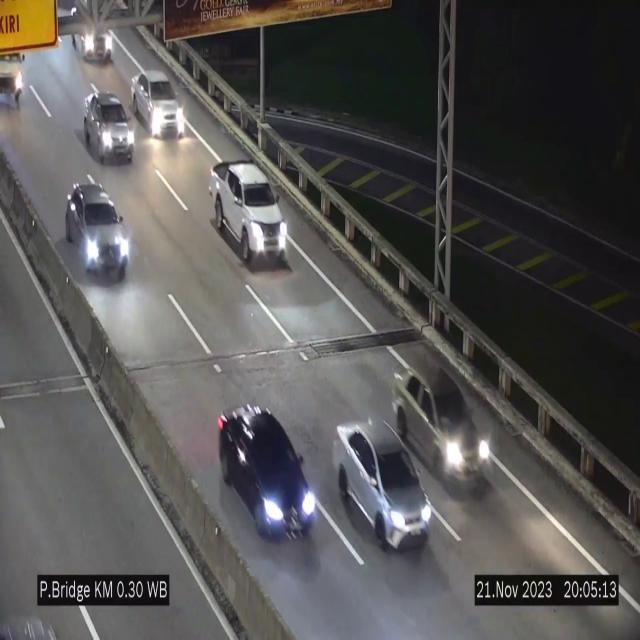Car: (218, 404, 319, 538), (332, 420, 432, 550), (392, 364, 490, 494), (211, 162, 289, 268), (63, 178, 129, 284), (132, 71, 185, 138), (84, 94, 135, 161)
